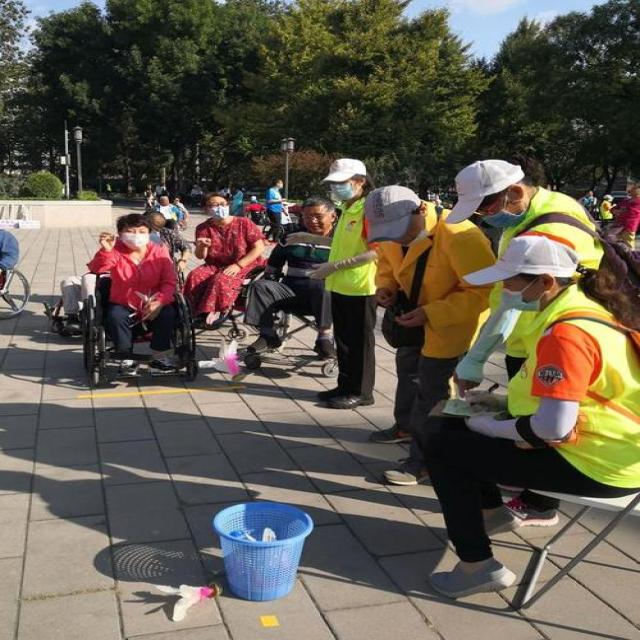wheelchairs: (65, 264, 209, 390), (237, 256, 352, 386)
